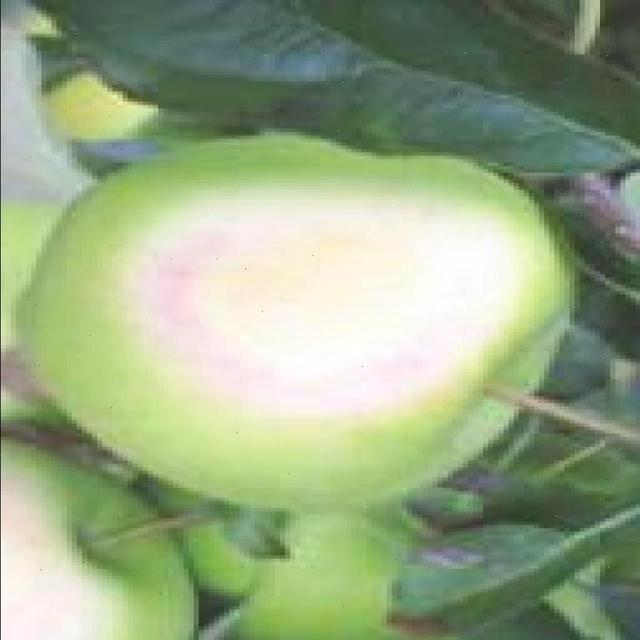Sunscald Fruit: (81, 121, 366, 290)
